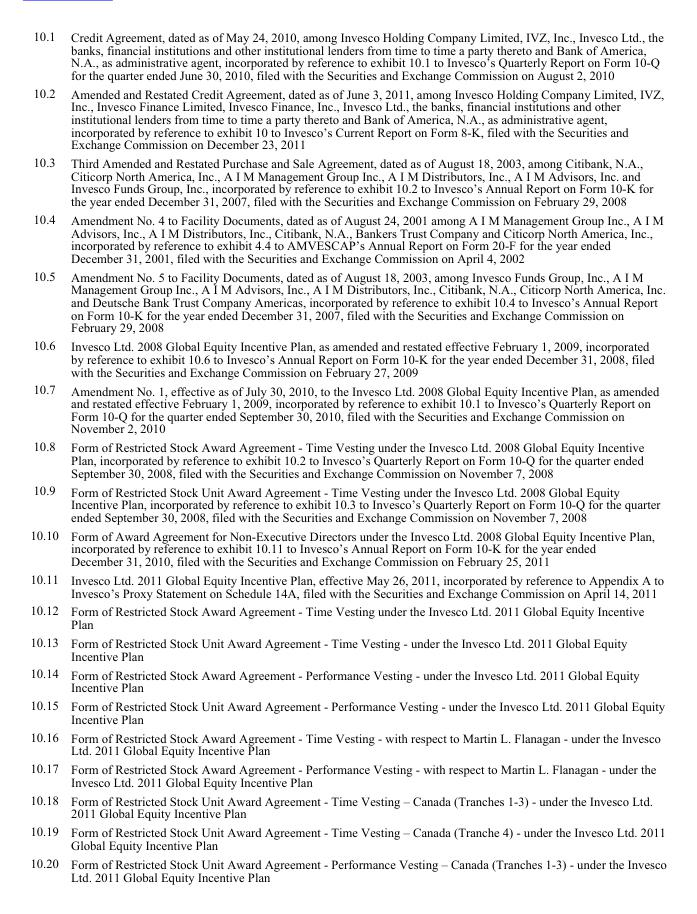table: (29, 28, 665, 883)
table column: (63, 28, 665, 883), (29, 28, 63, 883)
table row: (29, 266, 665, 336), (29, 83, 665, 152), (29, 152, 665, 209), (29, 209, 665, 266), (29, 380, 665, 437), (29, 28, 665, 83), (29, 336, 665, 380), (29, 437, 665, 481), (29, 481, 665, 525), (29, 525, 665, 569), (29, 569, 665, 601), (29, 632, 665, 664), (29, 695, 665, 727), (29, 758, 665, 790), (29, 790, 665, 822), (29, 601, 665, 632), (29, 664, 665, 695), (29, 727, 665, 758), (29, 822, 665, 853), (29, 853, 665, 883)
